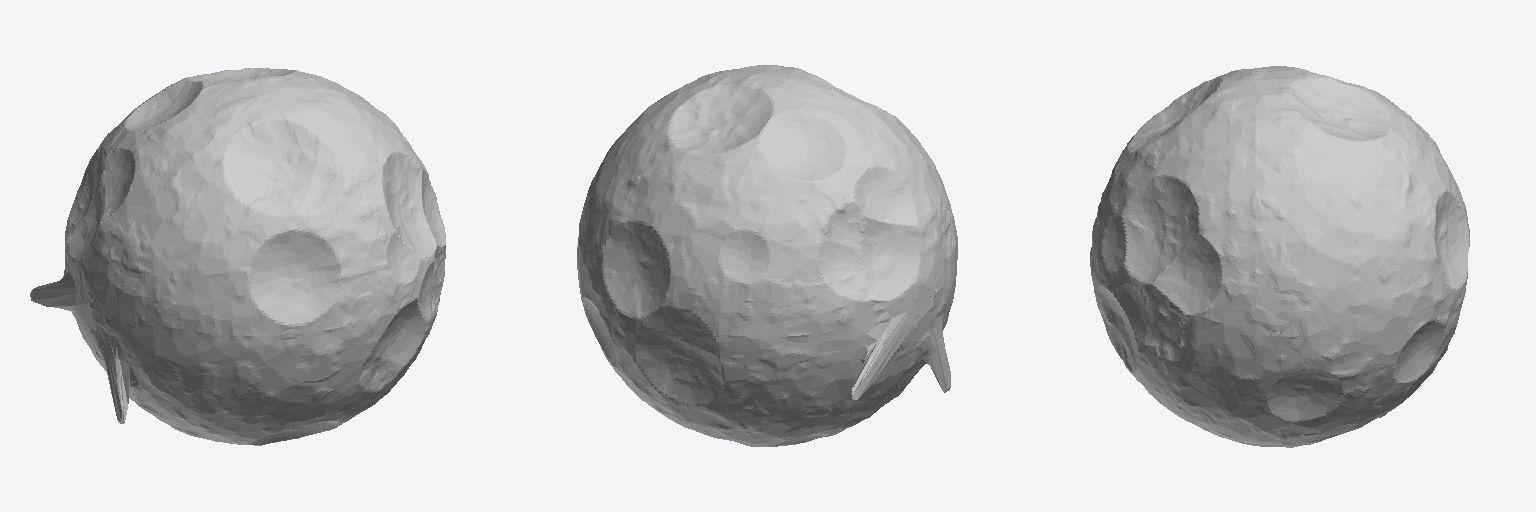
Rendered from planetetest.obj.
3 views of the same model, side by side, from view 1: azimuth 30°, elevation 25°; view 2: azimuth 150°, elevation 25°; view 3: azimuth 270°, elevation 25° (orthographic).
Parts seen in each view (by area): view 1: Sphere001.001; view 2: Sphere001.001; view 3: Sphere001.001.
Part boxes in pixels (x1,y1,x2,y2): Sphere001.001: (30,68,445,445); Sphere001.001: (577,65,957,446); Sphere001.001: (1090,66,1469,447).
Size of the model in its own units: 1 by 1 by 0.9987.